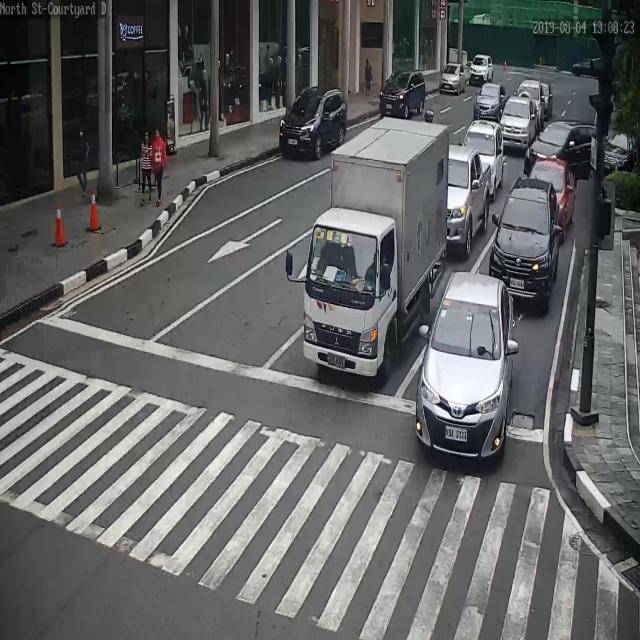car: (416, 267, 514, 462), (489, 176, 561, 308), (279, 85, 349, 162), (448, 141, 490, 254), (525, 120, 596, 181), (526, 159, 578, 229), (464, 121, 504, 197), (380, 70, 427, 118), (500, 95, 538, 149), (605, 129, 640, 175), (516, 80, 546, 127), (472, 82, 507, 120), (439, 67, 468, 95), (573, 57, 603, 79), (470, 55, 494, 82), (540, 81, 553, 115)
jeepney: (423, 109, 435, 125)
motorcycle: (302, 107, 441, 387)
